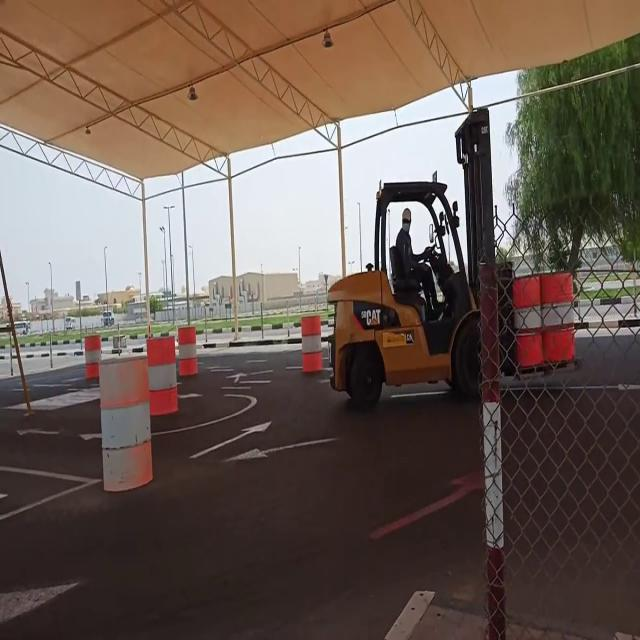Chariot elevateur: (319, 170, 511, 420)
